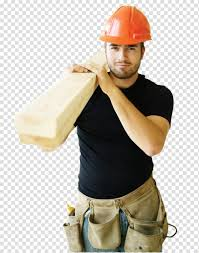hard hat: (98, 6, 152, 45)
